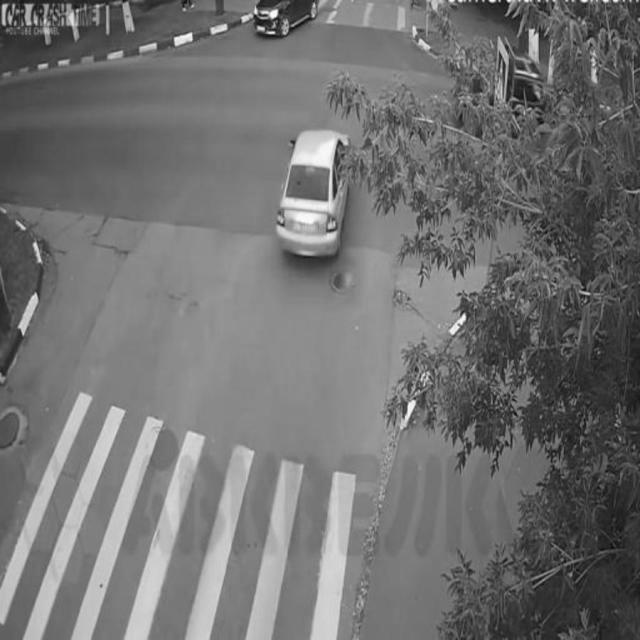vehicle: (277, 120, 353, 267), (252, 1, 325, 46)
